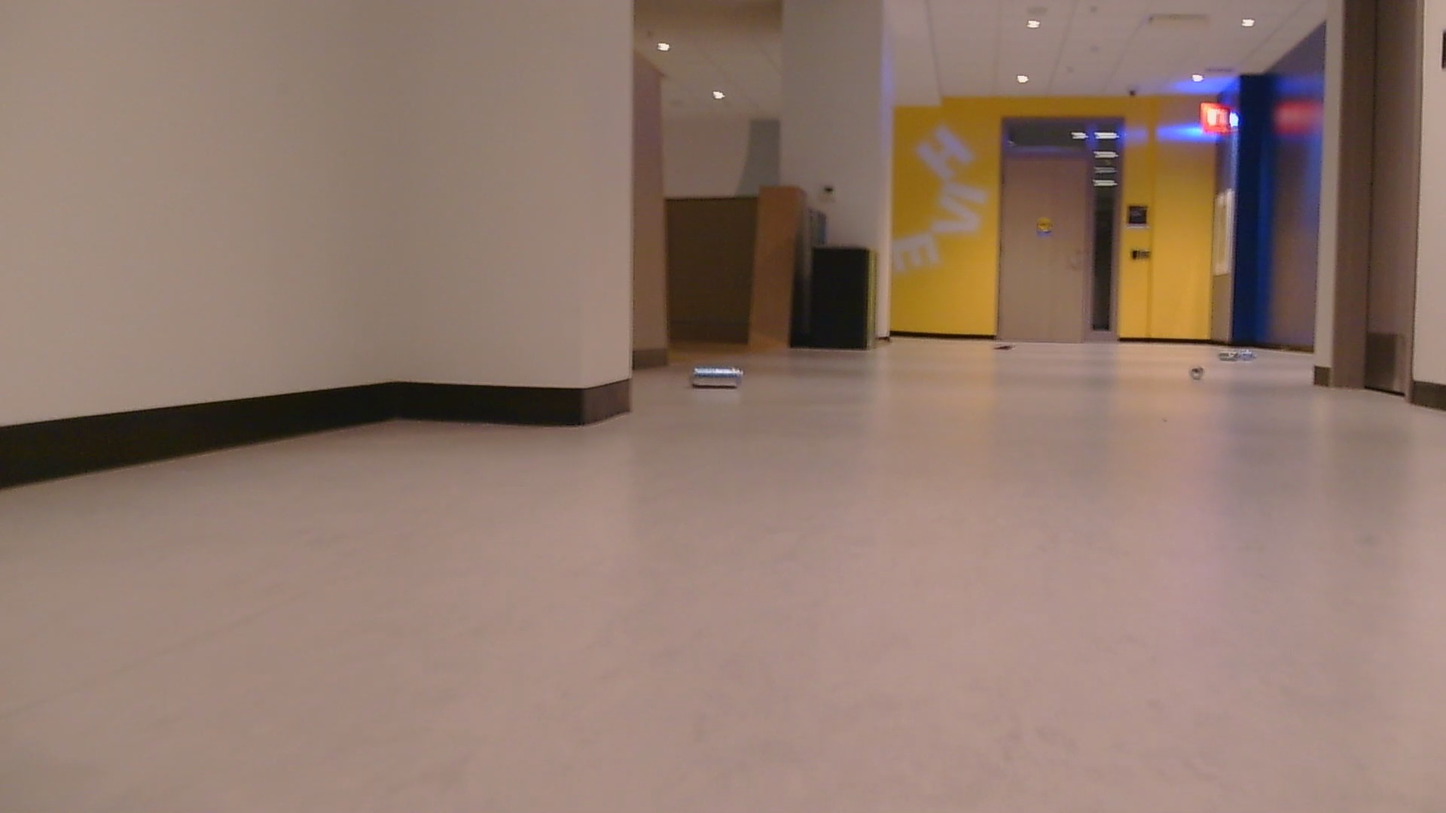carton: (691, 361, 748, 399), (1223, 345, 1254, 362), (990, 342, 1013, 357), (1187, 369, 1206, 383)
